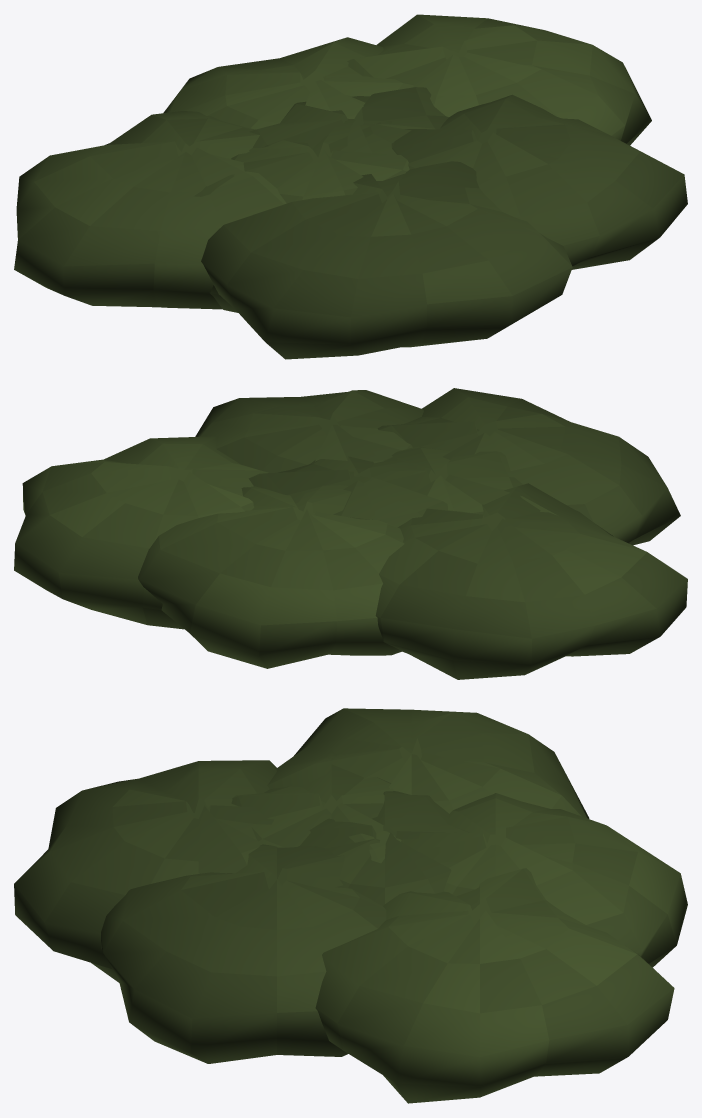
File: strange_moss.glb
3 renders of one model, top to bottom at view 1: azimuth 30°, elevation 25°; view 2: azimuth 150°, elevation 25°; view 3: azimuth 270°, elevation 25°, orthographic. The views are drawn at different scales.
Visible parts, largest first — view 1: strange_moss; view 2: strange_moss; view 3: strange_moss.
Part boxes in pixels (bbox=[...]): strange_moss: bbox=[14, 14, 687, 359]; strange_moss: bbox=[14, 388, 687, 679]; strange_moss: bbox=[14, 708, 687, 1103].
Bounding box in the file's own units: 1.37 × 0.297 × 1.14.
